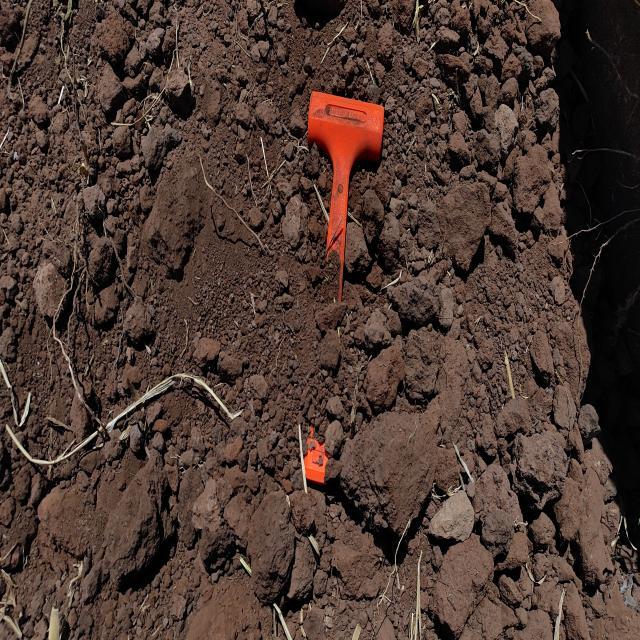Orange_hammer: (307, 88, 385, 303)
